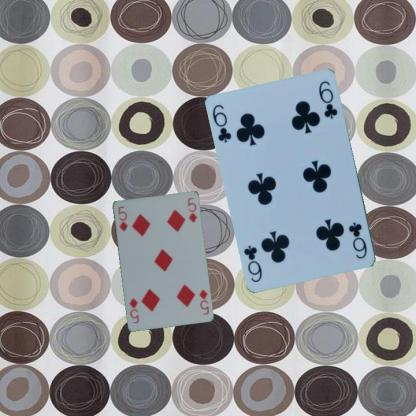5d: (115, 204, 129, 233), (196, 287, 210, 316)
6c: (210, 102, 233, 144), (346, 219, 369, 260)
